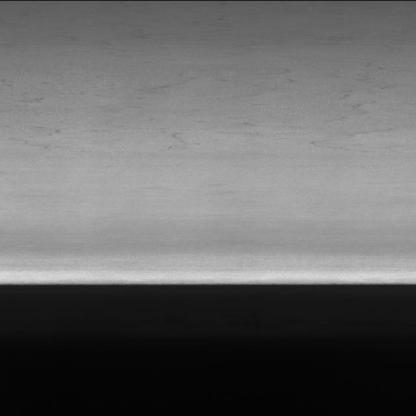silk_spot: (25, 48, 388, 155)
